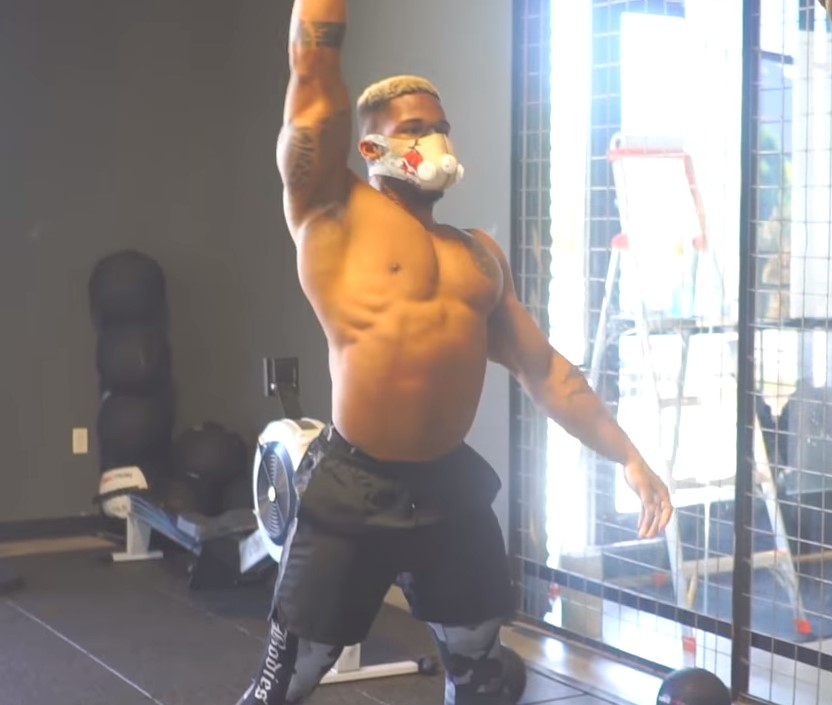face_with_mask: (354, 74, 470, 201)
